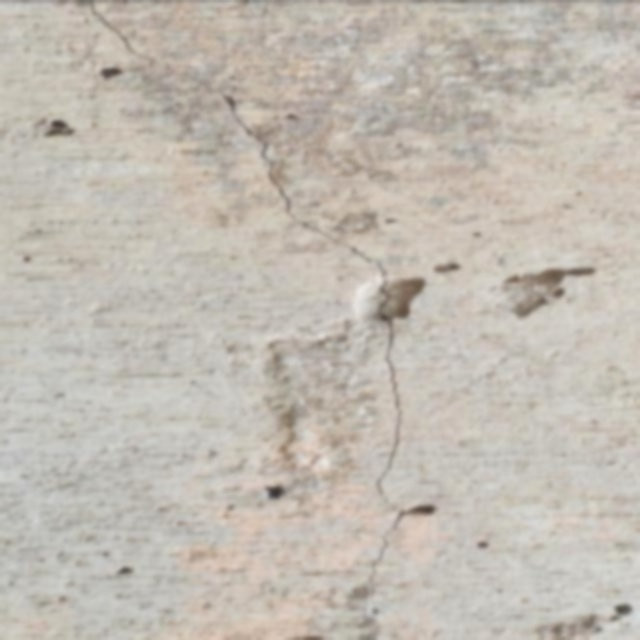SurfaceCrack: (101, 0, 446, 638)
